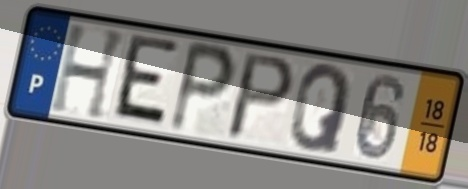6: (353, 71, 408, 164)
E: (107, 31, 183, 133)
H: (47, 22, 132, 124)
P: (165, 36, 241, 138), (222, 49, 300, 143)
Q: (286, 62, 355, 158)
